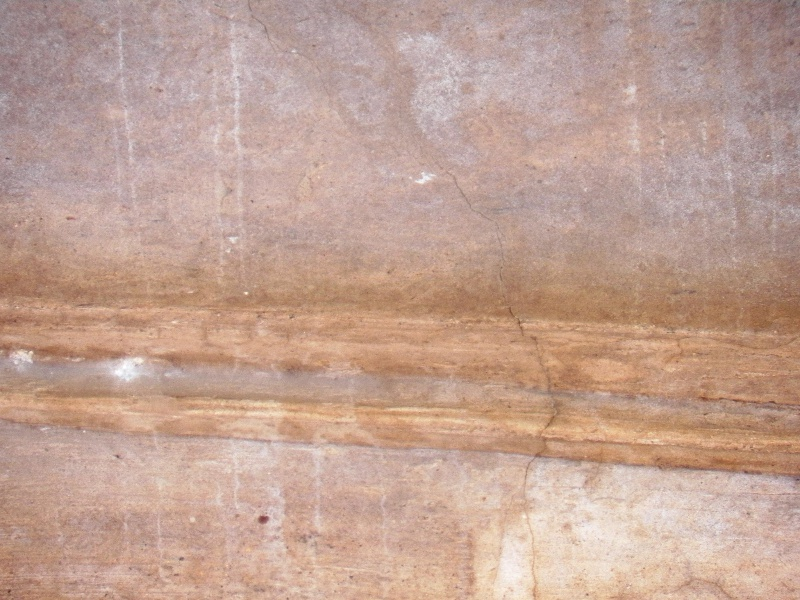Crack: (442, 163, 517, 312), (520, 380, 548, 594)
